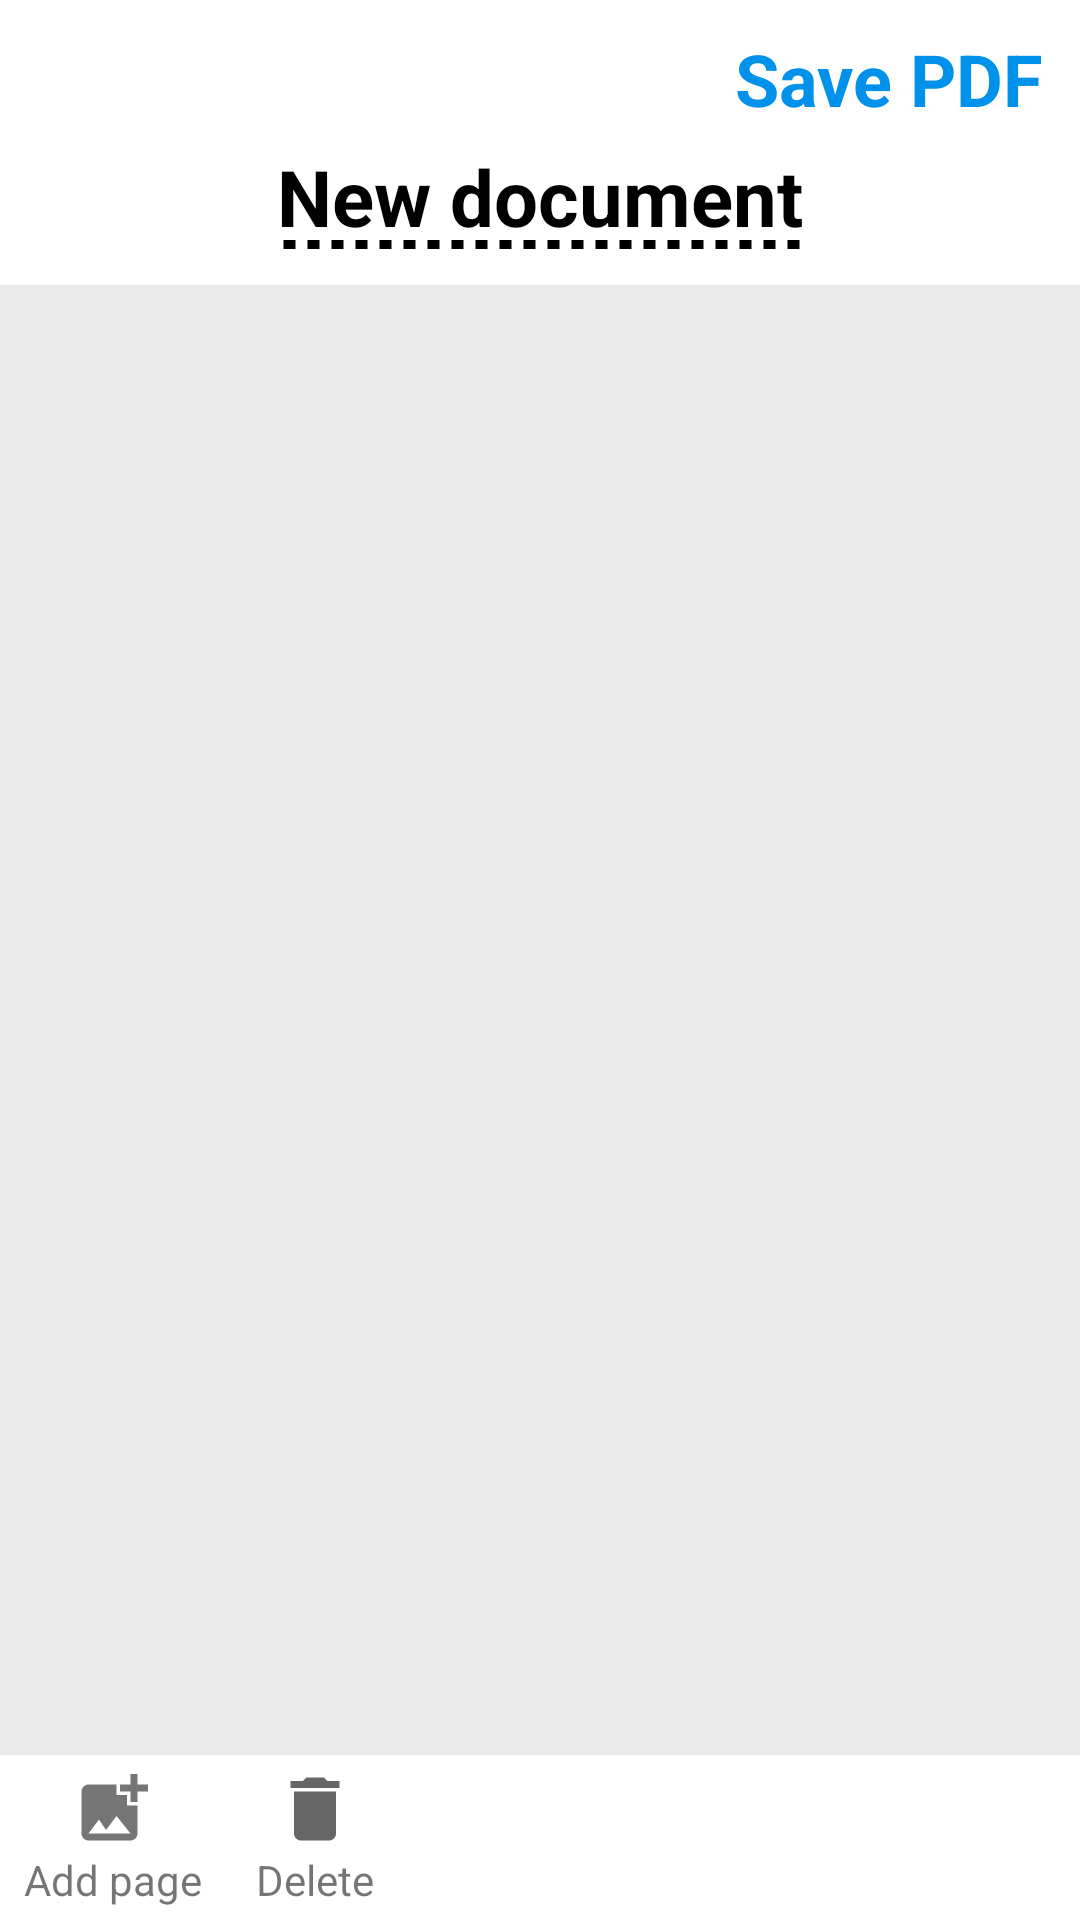

Icons on this 1080×1920 Android screen, each with the point to tap as [x,y]:
add photo alternate: [114,1807]
